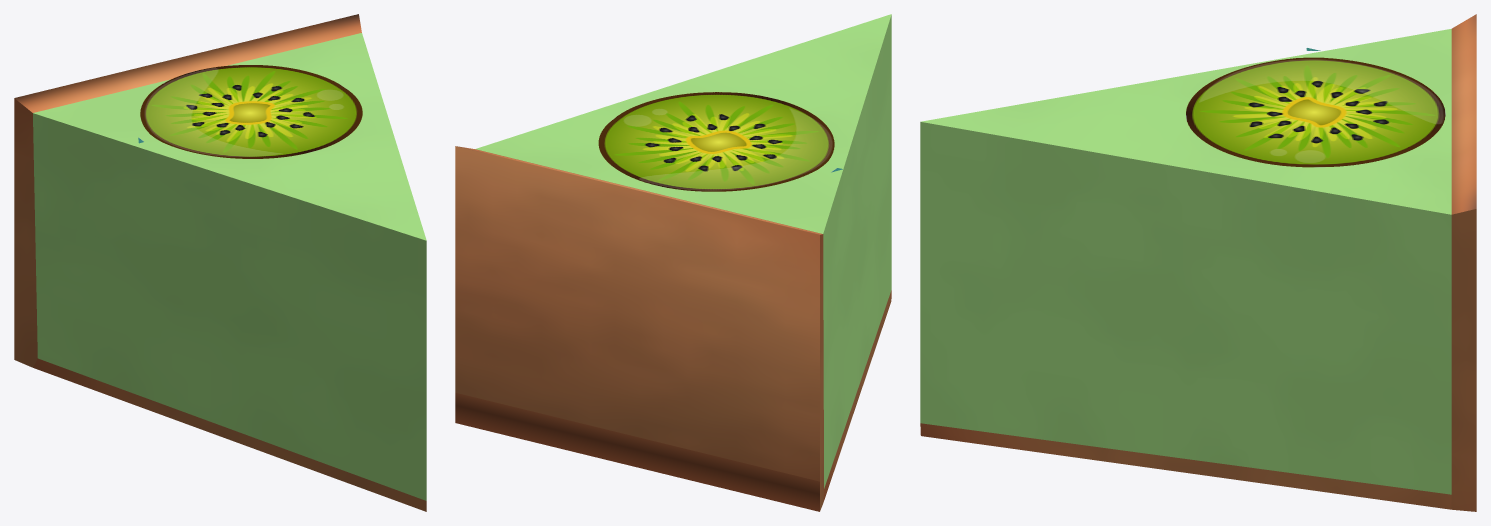
Rendered from Cheesecake_Slice_A_4.FBX.
3 views of the same model, side by side, from view 1: azimuth 30°, elevation 25°; view 2: azimuth 150°, elevation 25°; view 3: azimuth 270°, elevation 25° (orthographic). The views are drawn at different scales.
Parts seen in each view (by area): view 1: Cheesecake_Slice; view 2: Cheesecake_Slice; view 3: Cheesecake_Slice.
Boxes of the visible parts, x1=… form: Cheesecake_Slice: x1=14, y1=14, x2=426, y2=511; Cheesecake_Slice: x1=455, y1=14, x2=891, y2=511; Cheesecake_Slice: x1=920, y1=14, x2=1476, y2=511.
Size of the model in its own units: 32.61 by 25.35 by 39.37.
